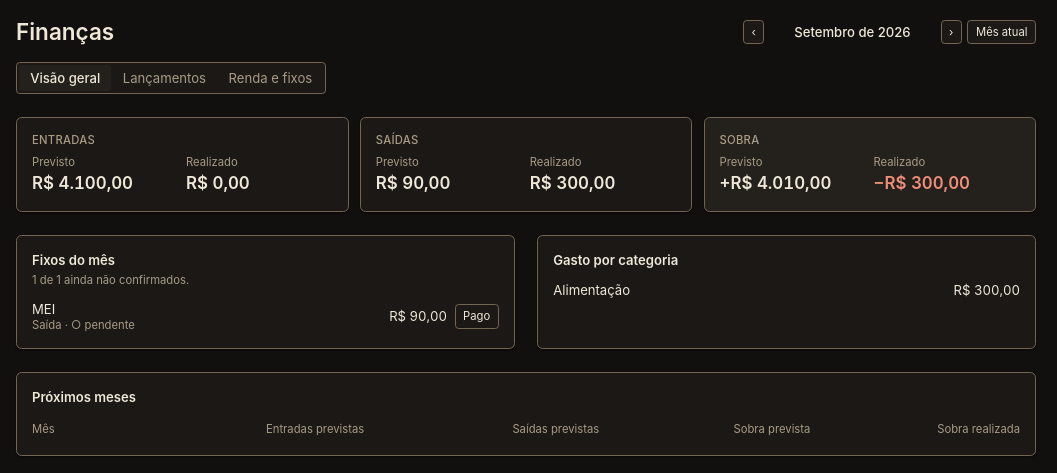
Test: ConteudoDeFinancas › trocar de sub-aba mantém o mês, e o mês seguinte recarrega tudo
Expected: the element named "Resumo do mês" is shown, [16,116,1036,212]
Click the button "Lançamentos".
click(164, 78)  # box [112,65,217,91]
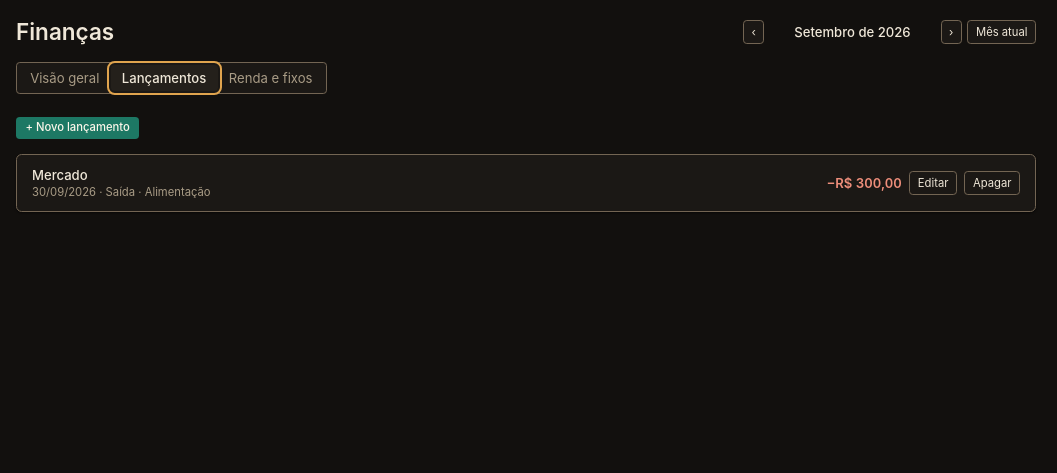
Expected: the text "Mercado" is shown, [32,167,88,183]
Click the button named "Próximo mês".
click(951, 32)  # box [940,20,962,44]
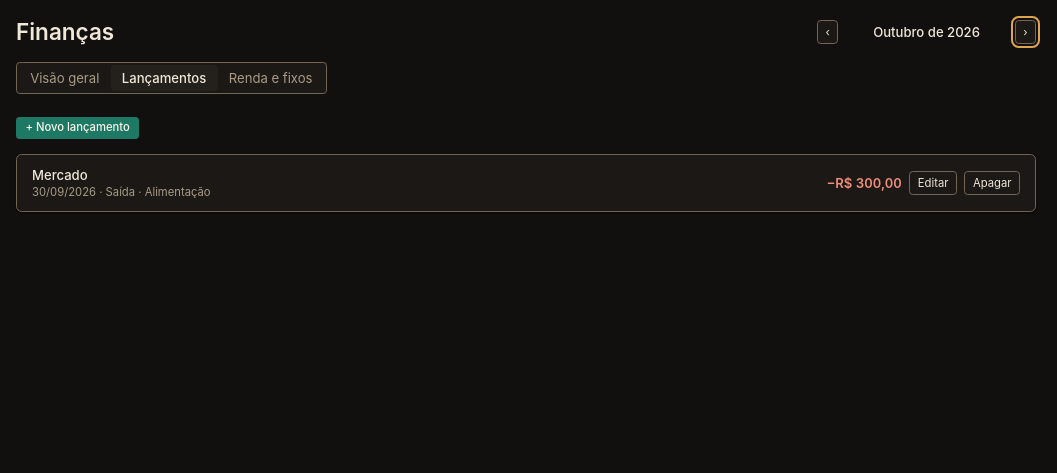
Expected: the text "outubro de 2026" is shown, [873,24,980,40]
